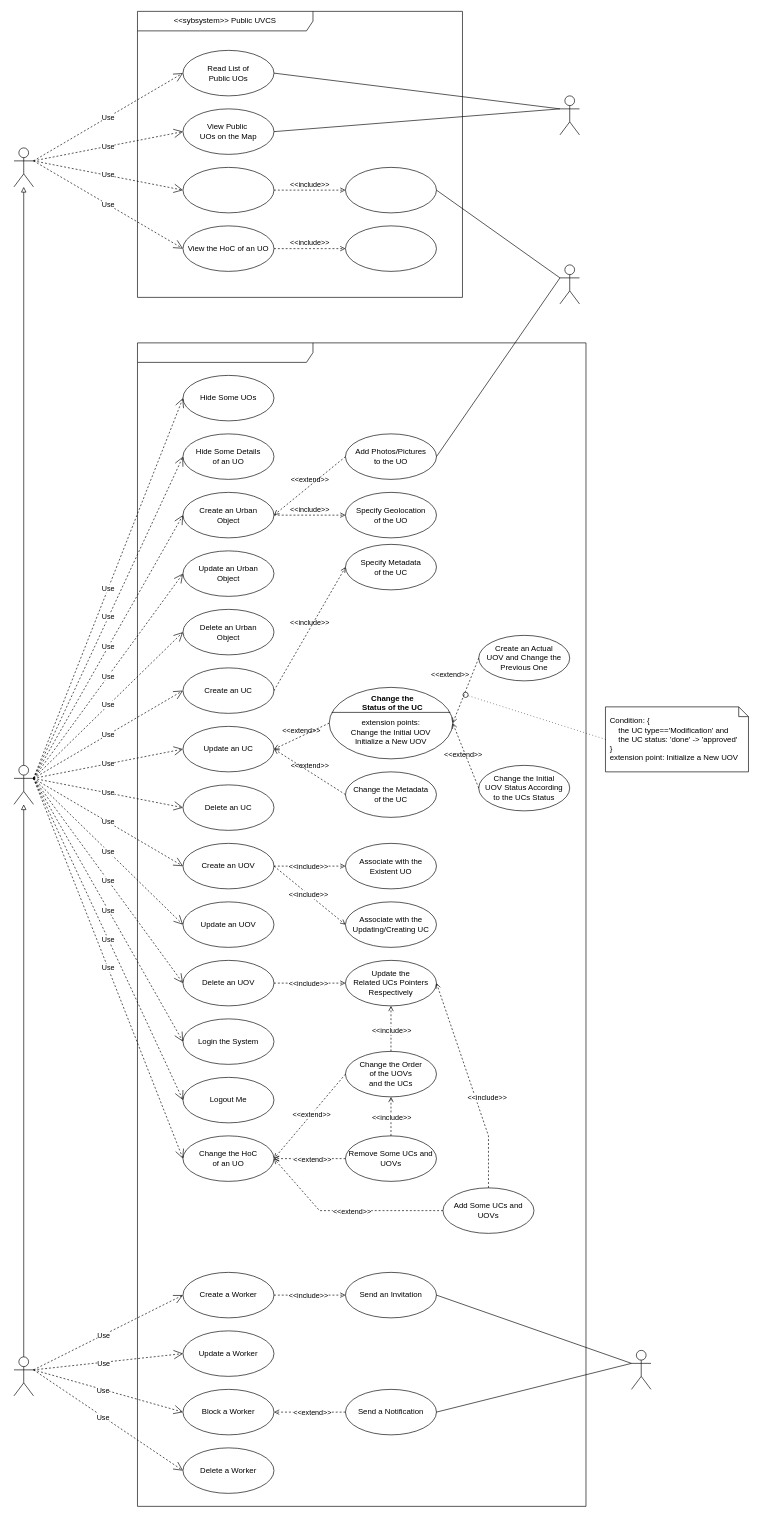
Some shapes in this 760 by 1518 pixel diagram are drawn without their labels. The shapes that lost their labels are listed below. From the top down, each one's centre as x and y in pixels, then its label:
[569,115]: <<service>> Map Service (Leaflet)
[23,167]: Visitor
[228,190]: View Public Details of an UO
[390,190]: View Public Photos (Media) of an UO
[390,248]: View Different UOVs of the Urban Object
[569,284]: <<service>> Media Storage
[23,784]: Worker
[361,924]: <<sybsystem>> Admin Page of UCVS
[23,1376]: Admin
[641,1369]: <<service>> Notification (Mail) Service
